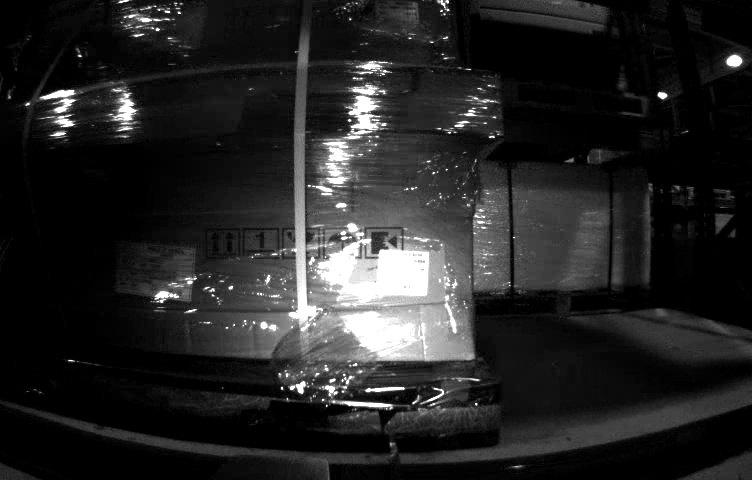True Barcode: (376, 249, 427, 293)
